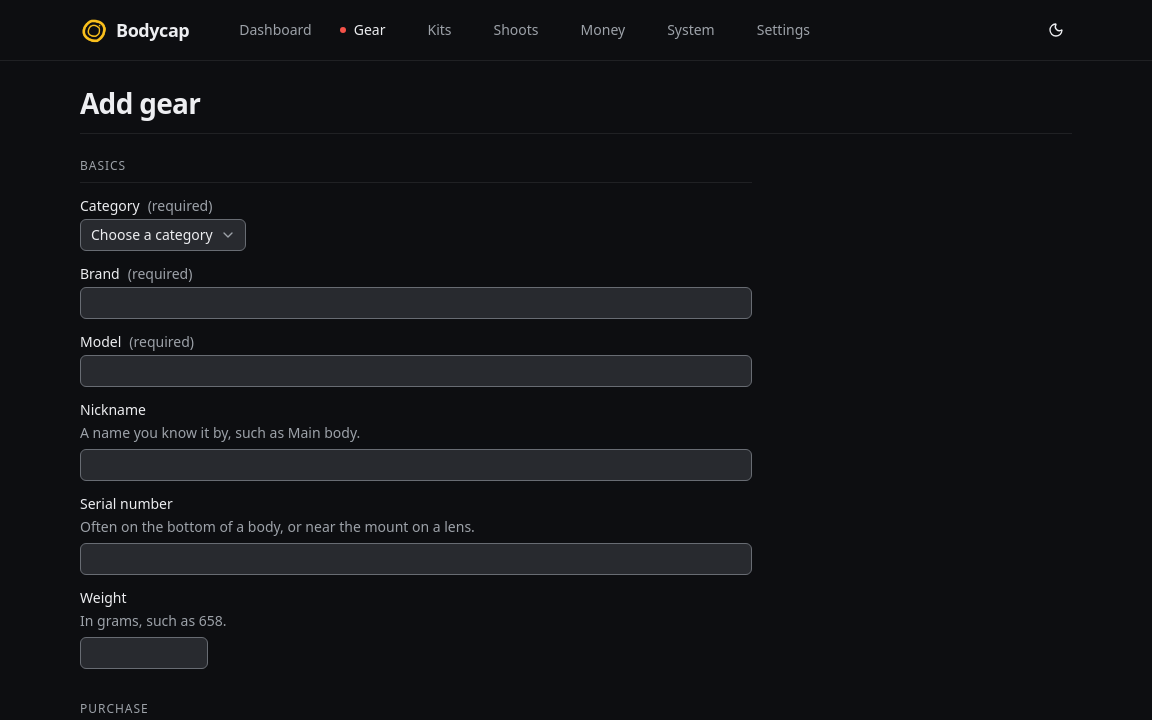
Scenario: adding gear › shows the spec fields for a Camera body
Expected: the heading "Add gear" is shown, [80, 85, 200, 121]
Select "Camera body" in the dropdown labelled "Category" at x=163, y=235, box [80, 219, 246, 251]
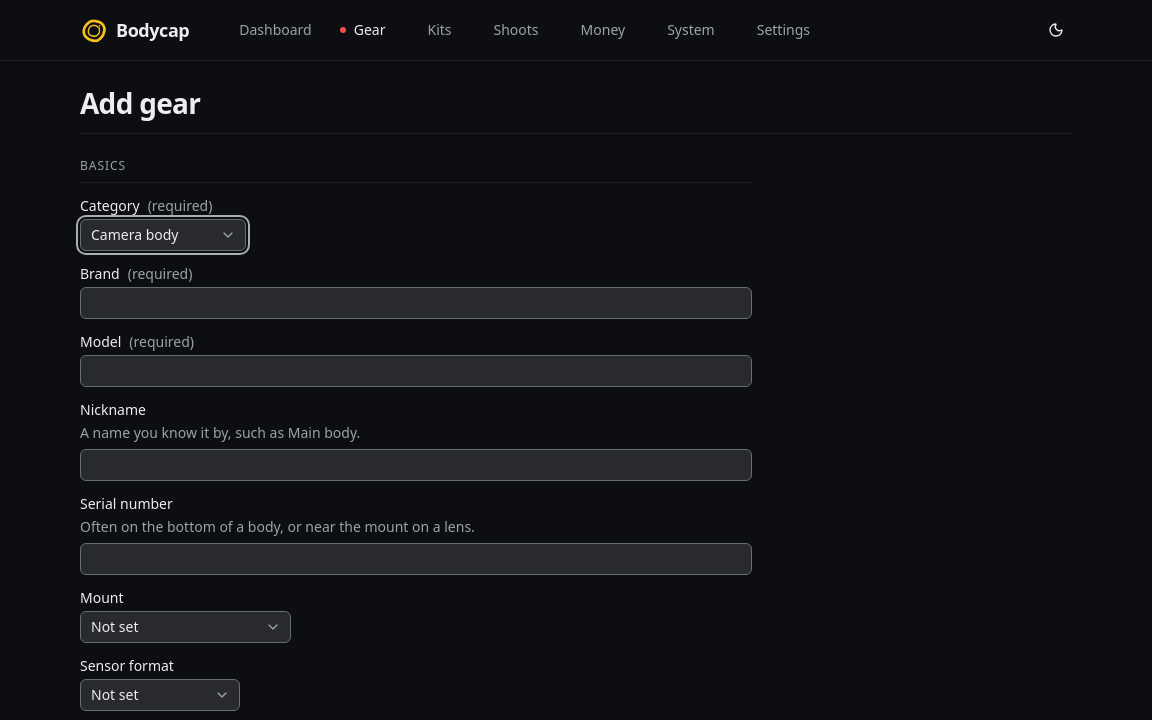
Expected: the dropdown labelled "Mount" is shown, [80, 611, 291, 643]
Expected: the dropdown labelled "Sensor format" is shown, [80, 679, 240, 711]
